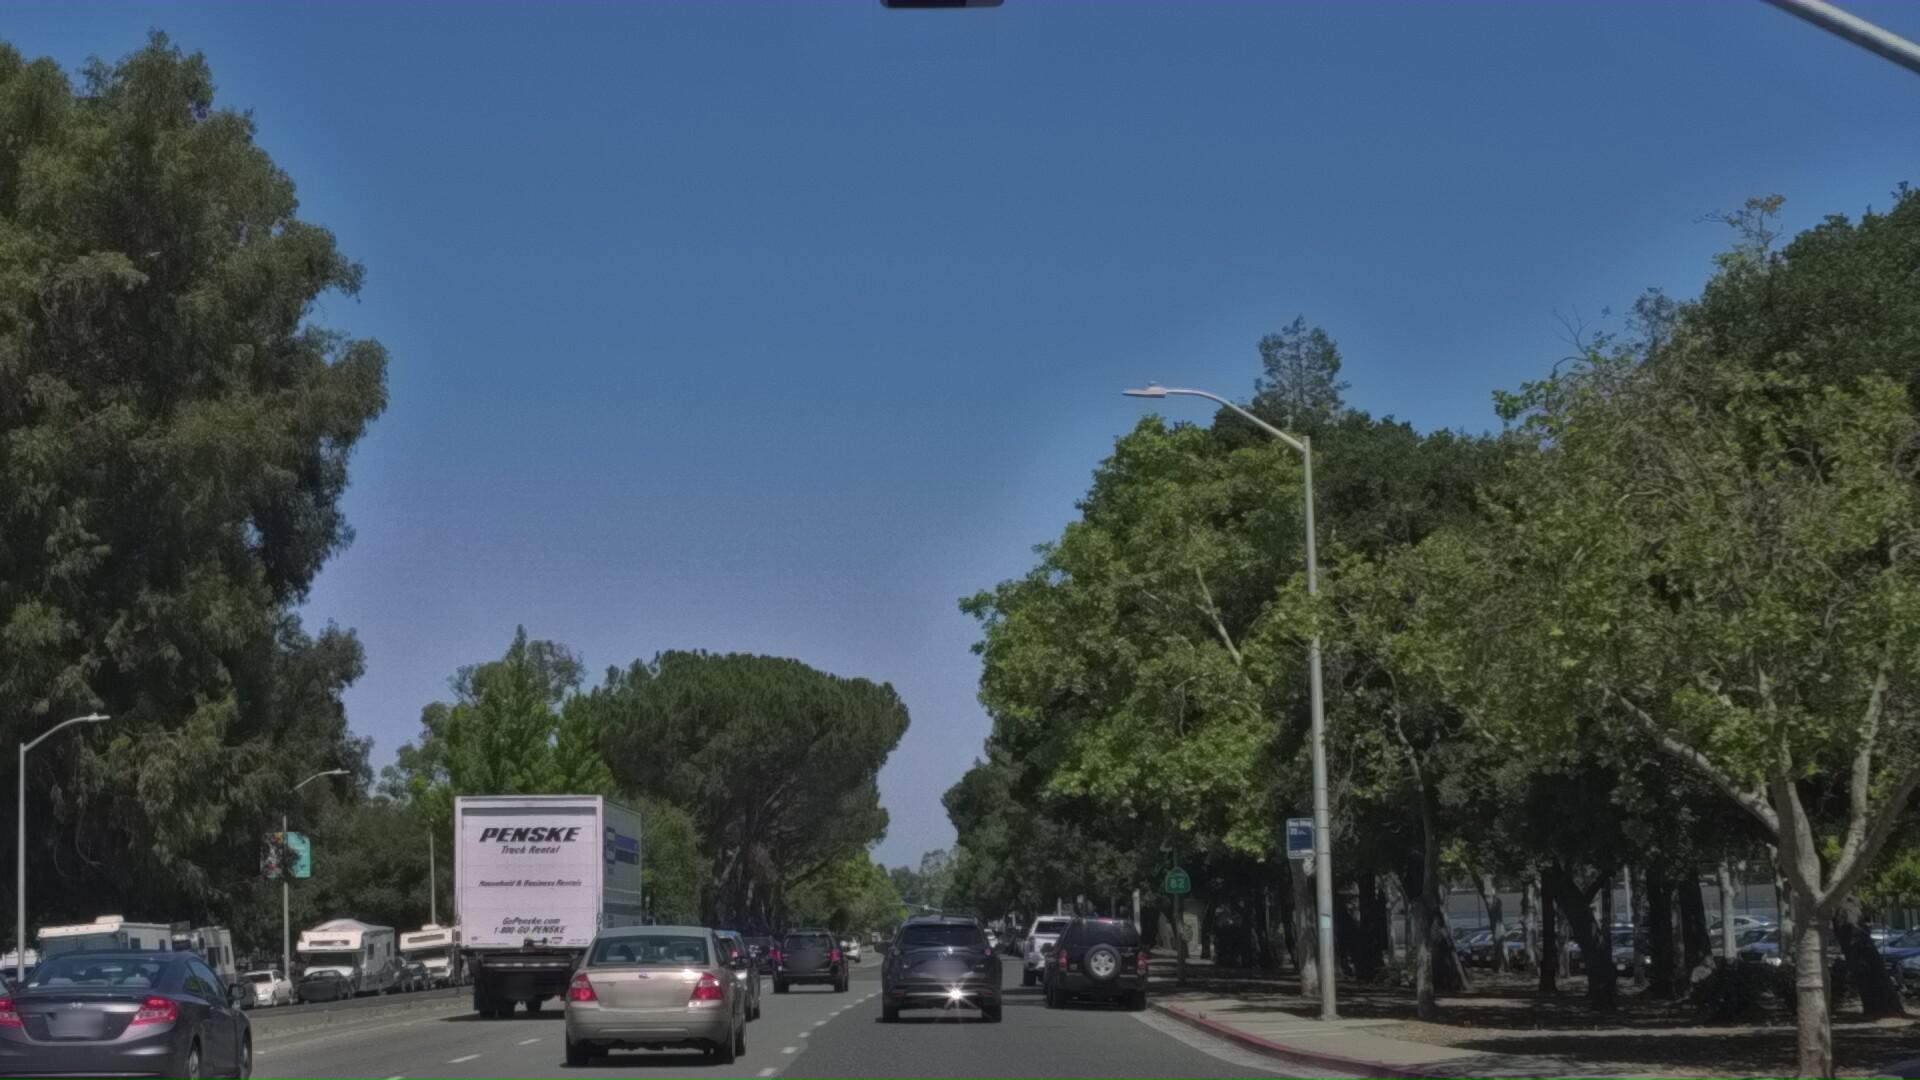car: (0, 1023, 284, 1080), (556, 1018, 760, 1080), (1727, 1017, 1920, 1080), (1033, 1005, 1178, 1080), (869, 1009, 1015, 1080), (659, 1029, 786, 1080), (0, 1072, 11, 1080)
truck: (444, 877, 669, 1080)
